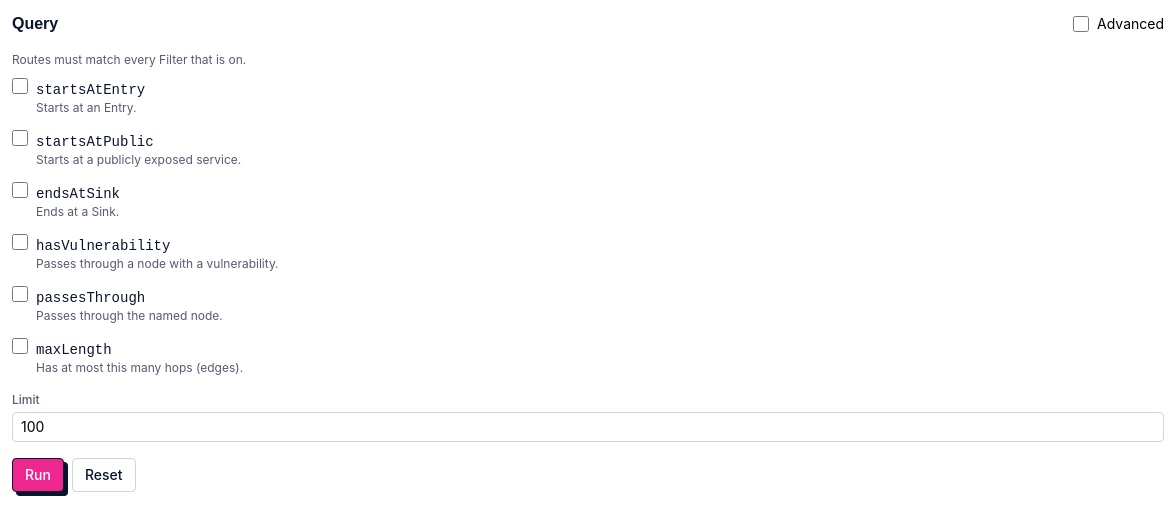
Test: QueryPanel advanced mode › switches back to the flat Filter list with its draft intact
The width and height of the screenshot is (1176, 513).
Click the checkbox labelled "startsAtPublic": [20, 138] box [12,130,28,146]
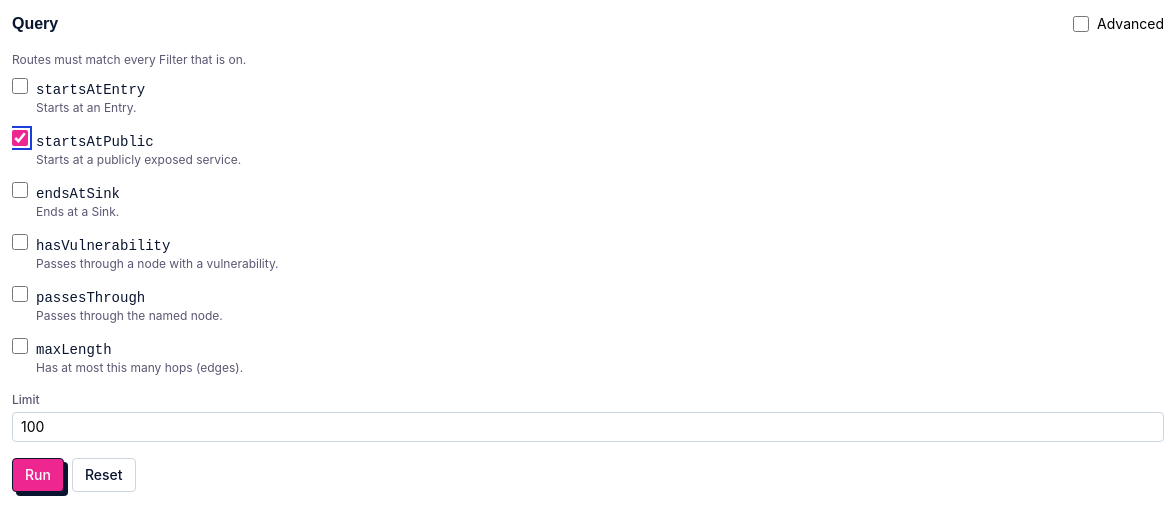
Click the checkbox labelled "Advanced": [1081, 24] box [1073,16,1089,32]
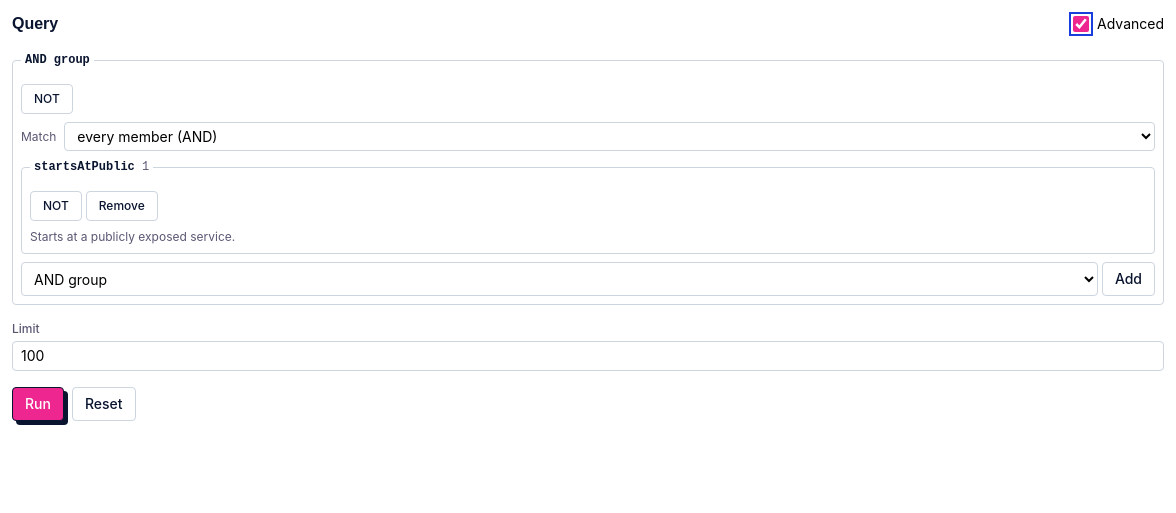
Click the checkbox labelled "Advanced": [1081, 24] box [1073,16,1089,32]
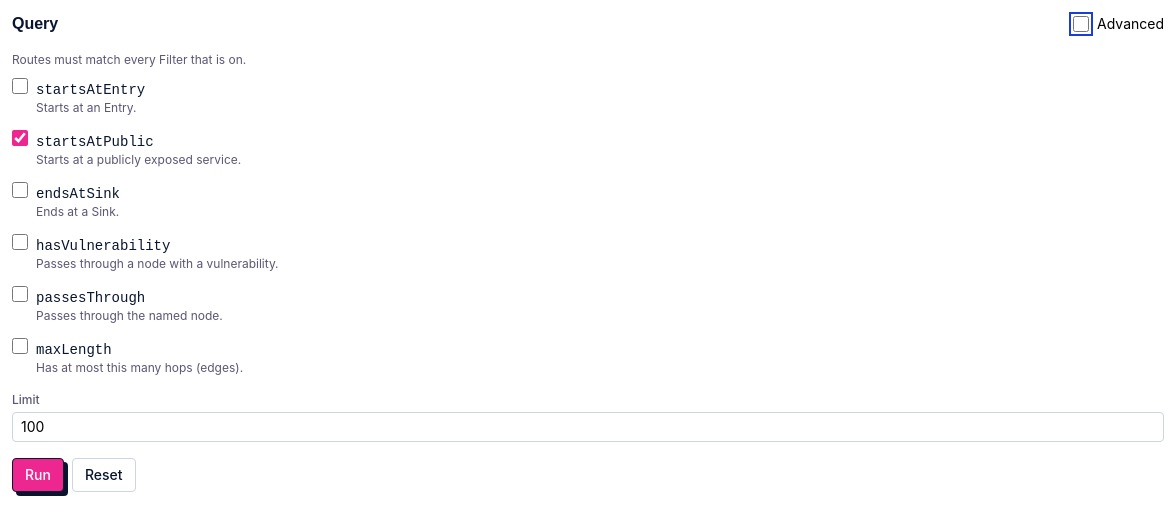
Result: the checkbox labelled "startsAtPublic" is checked at [12,130,28,146]
